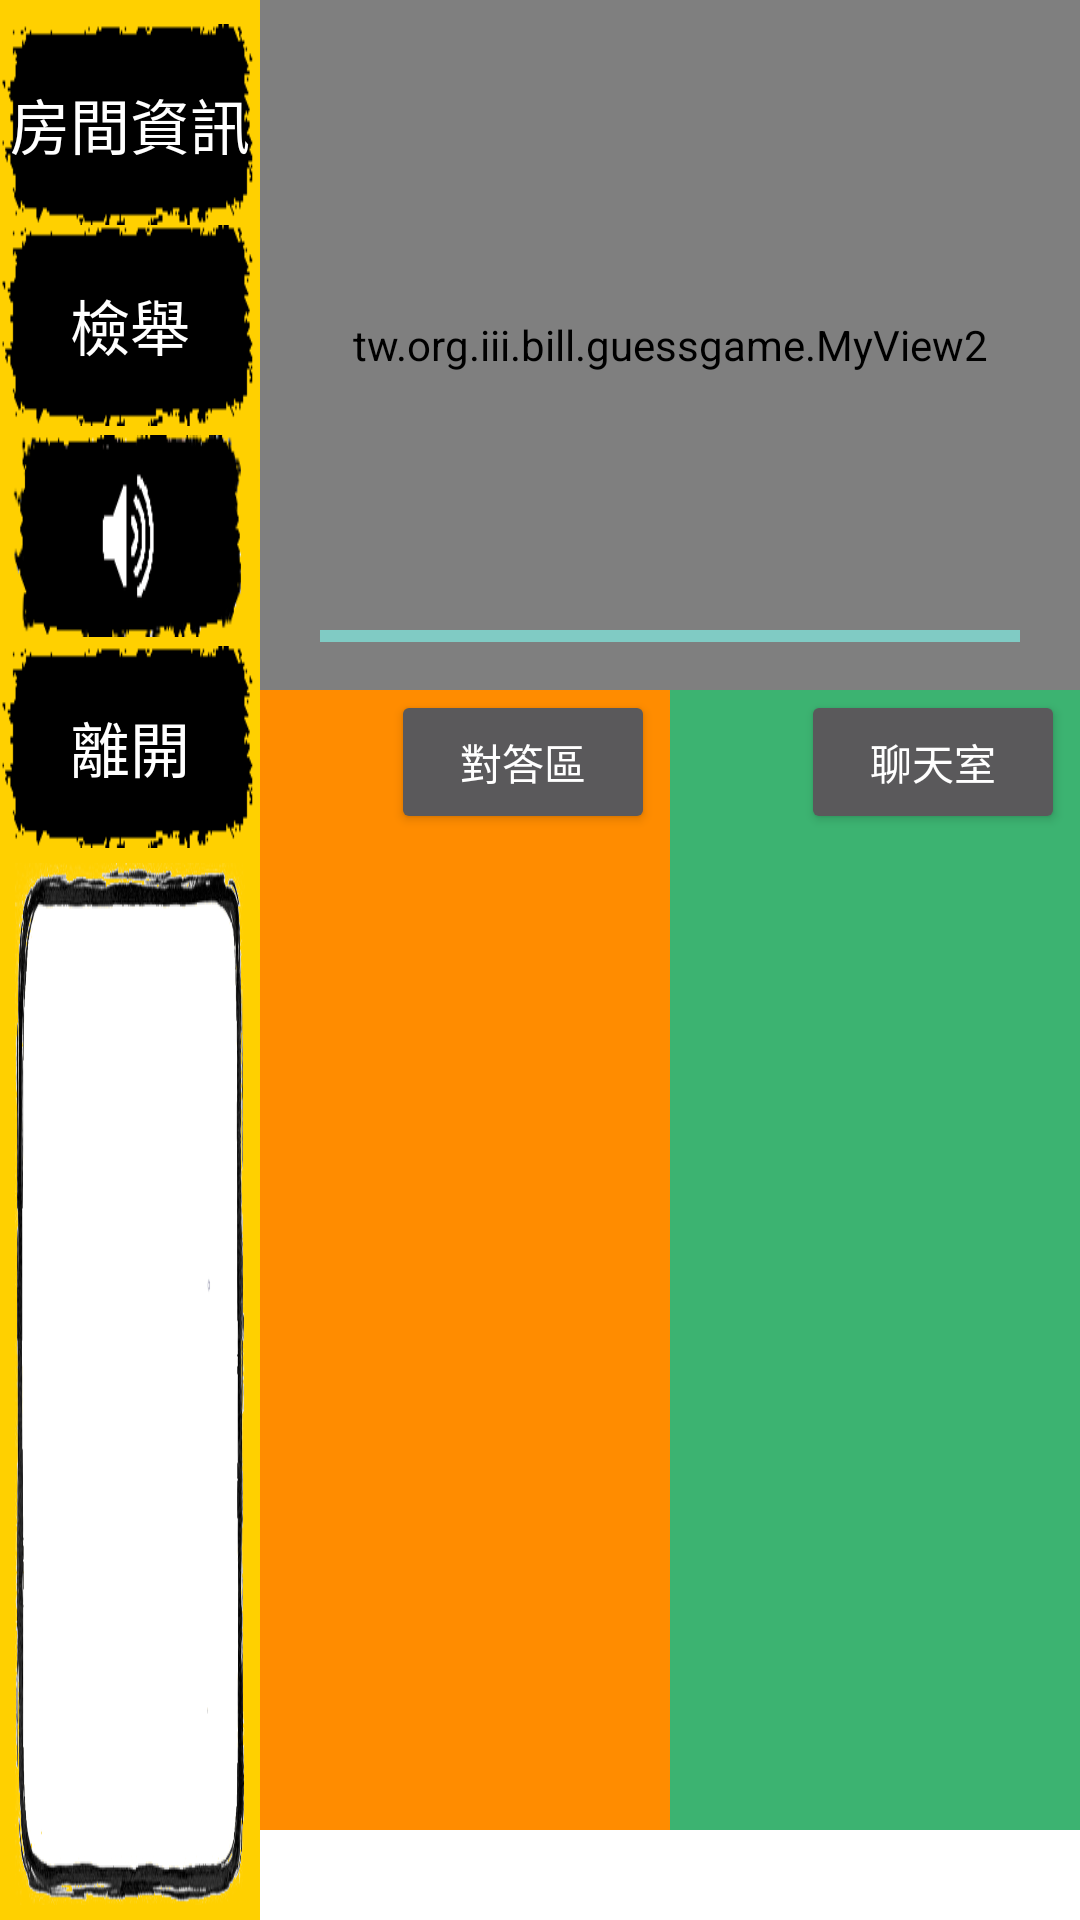

Icon click points for this 1080px×1920px phone screenshot, format [x,y]:
game soundselector: [127,536]
